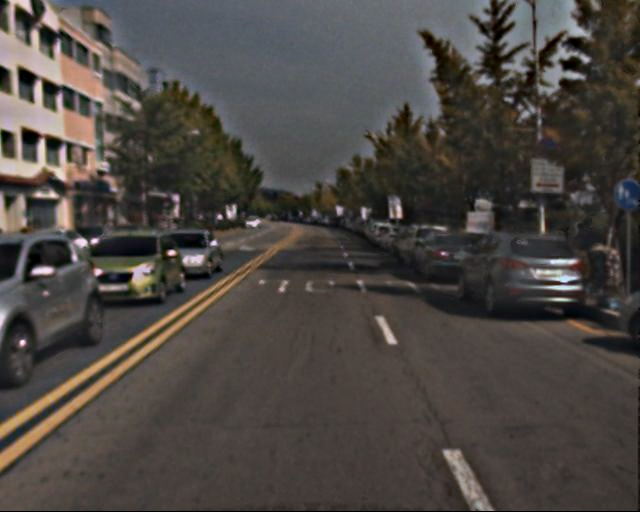person: (567, 219, 603, 294)
